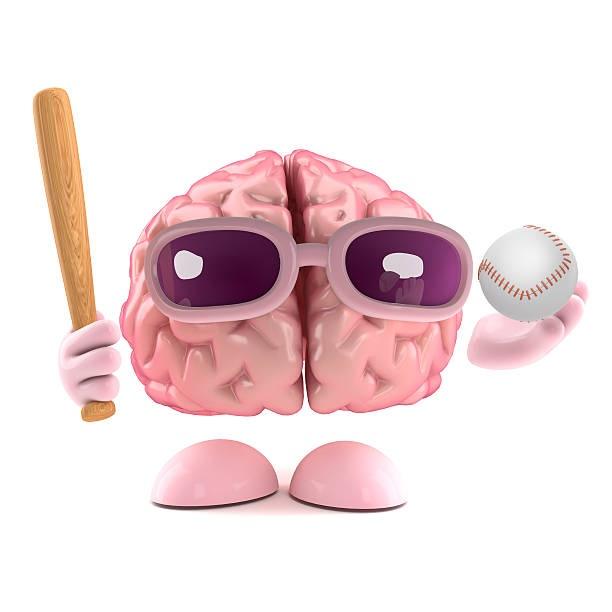bita: (29, 91, 115, 419)
